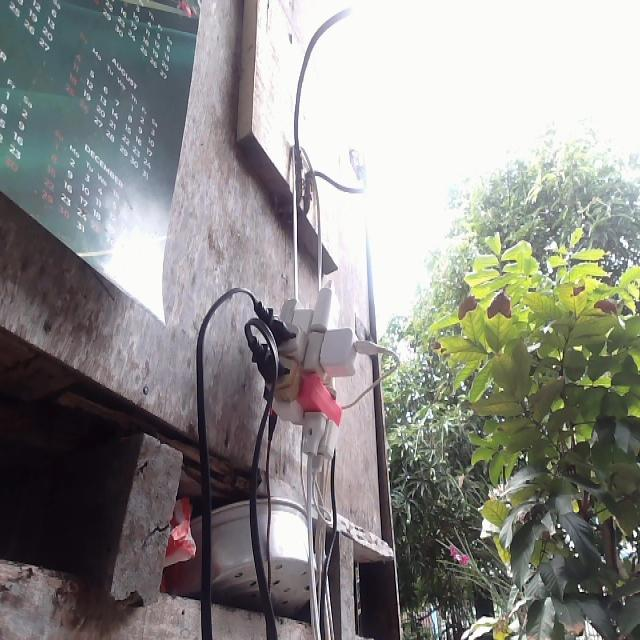-: (250, 279, 366, 460)
